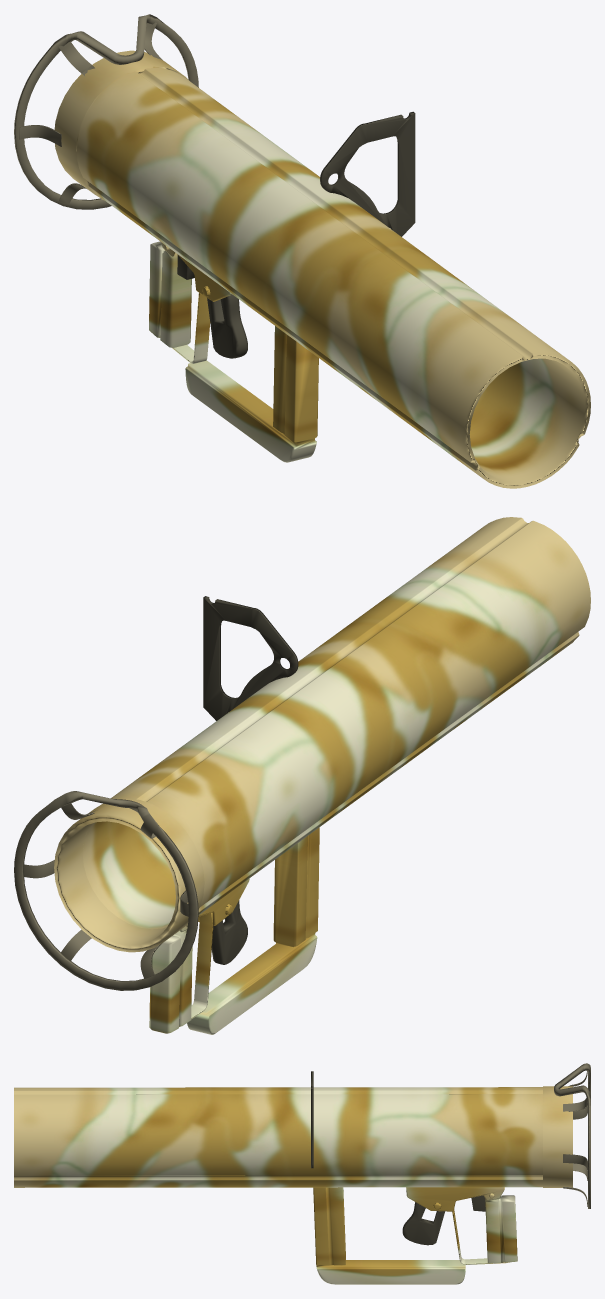
The model's file is PieBazooka.FBX.
The picture shows the model from 3 angles, top to bottom: view 1: azimuth 30°, elevation 25°; view 2: azimuth 150°, elevation 25°; view 3: azimuth 270°, elevation 25°; orthographic projection. The views are drawn at different scales.
Visible parts, largest first — view 1: Bazooka, Handle; view 2: Bazooka, Handle; view 3: Bazooka, Handle.
Boxes of the visible parts, <box> form: Bazooka: <box>14,14,590,488</box>; Handle: <box>207,294,247,358</box>; Bazooka: <box>14,517,590,1034</box>; Handle: <box>211,900,247,964</box>; Bazooka: <box>14,1063,590,1284</box>; Handle: <box>402,1202,444,1245</box>.
Size of the model in its own units: 25.37 by 41.07 by 94.57.
Materials: 3 (1 with a texture image).
